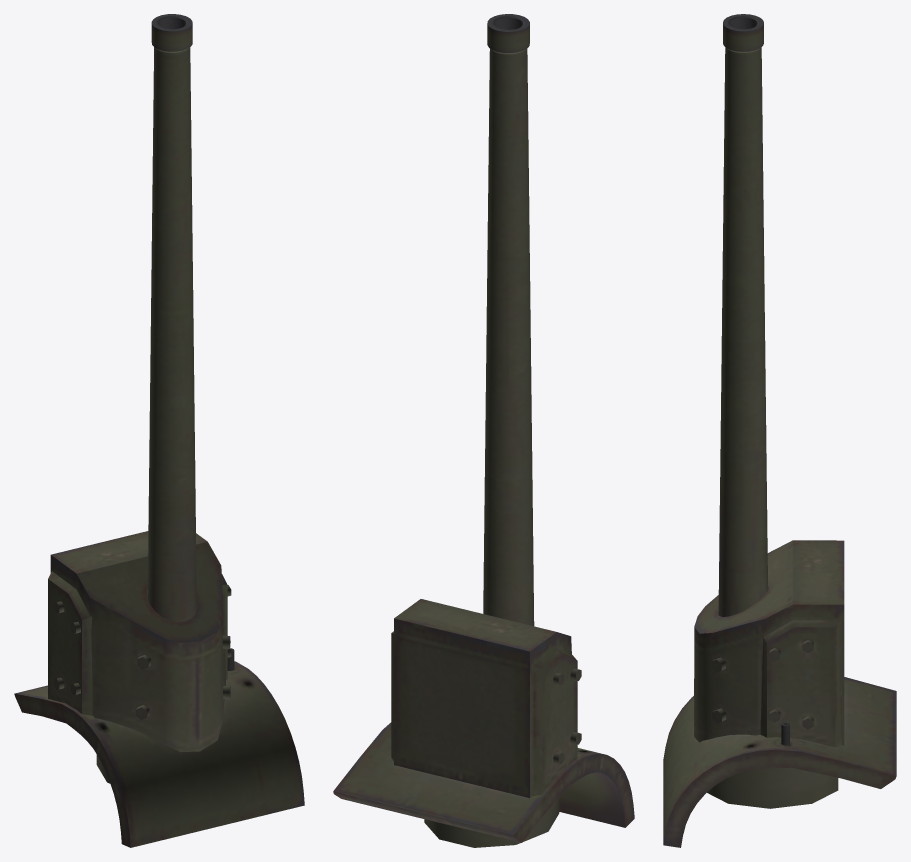
The model's file is Gun_05.glb.
The picture shows the model from 3 angles, left to right: view 1: azimuth 30°, elevation 25°; view 2: azimuth 150°, elevation 25°; view 3: azimuth 270°, elevation 25°; orthographic projection. The views are drawn at different scales.
Parts seen in each view (by area): view 1: set_0_group_0; view 2: set_0_group_0; view 3: set_0_group_0.
Part boxes in pixels (bbox=[...]): set_0_group_0: bbox=[14, 14, 304, 847]; set_0_group_0: bbox=[333, 14, 634, 847]; set_0_group_0: bbox=[663, 14, 896, 847].
Bounding box in the file's own units: 0.5513 × 2.33 × 0.6326.
Materials: 1 (1 with a texture image).
